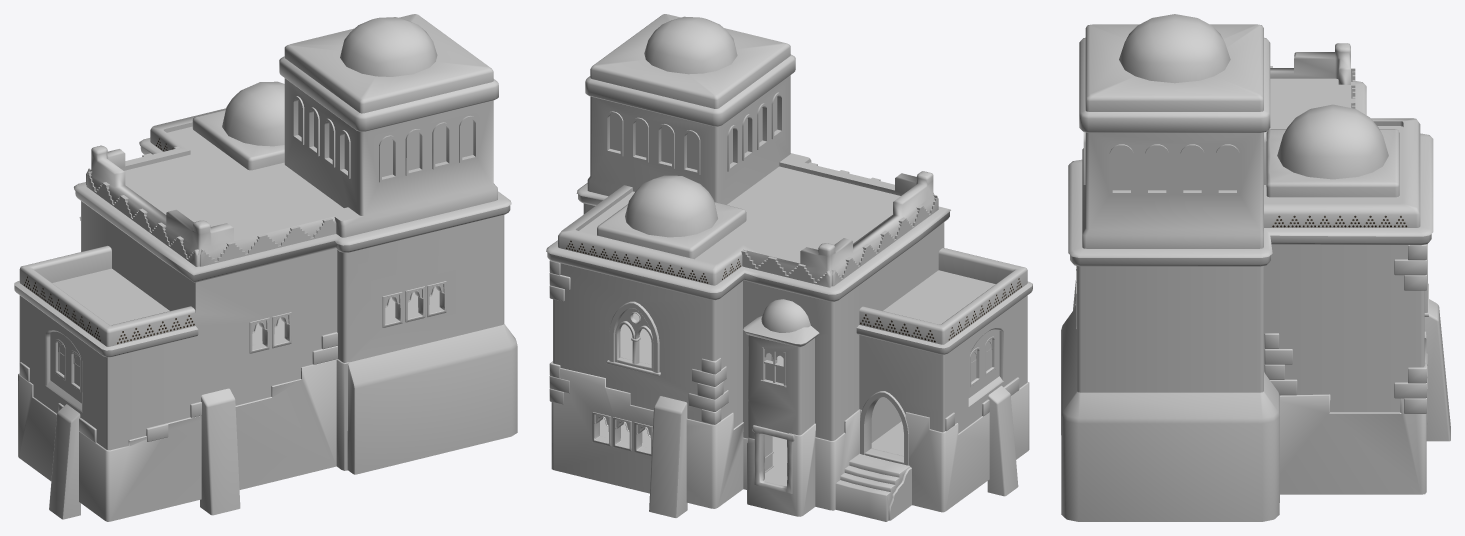
The model's file is desert_house_01.fbx.
3 renders of one model, left to right at view 1: azimuth 30°, elevation 25°; view 2: azimuth 150°, elevation 25°; view 3: azimuth 270°, elevation 25°, orthographic. The views are drawn at different scales.
Visible parts, largest first — view 1: desert_house_01_LOD0, desert_house_01_inside_LOD0; view 2: desert_house_01_LOD0, desert_house_01_inside_LOD0; view 3: desert_house_01_LOD0.
Part boxes in pixels (bbox=[...]): desert_house_01_LOD0: bbox=[14, 14, 517, 521]; desert_house_01_inside_LOD0: bbox=[252, 287, 439, 345]; desert_house_01_LOD0: bbox=[546, 14, 1032, 521]; desert_house_01_inside_LOD0: bbox=[600, 313, 903, 486]; desert_house_01_LOD0: bbox=[1061, 14, 1450, 521].
Size of what is drawn, in the model's own units: 769 by 717 by 539.
